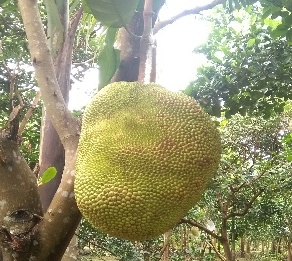Mit: (74, 82, 221, 243)
